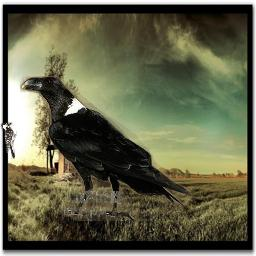Crow: (20, 76, 192, 221)
Woodpecker: (0, 122, 17, 159)
